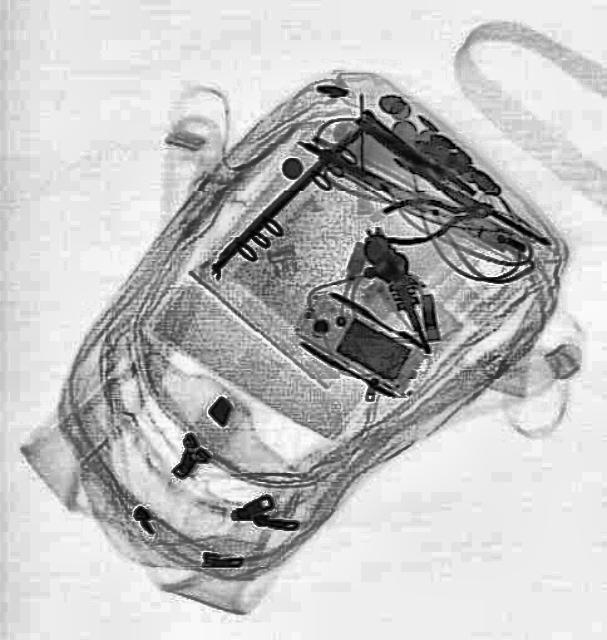Pliers: (374, 186, 495, 246)
